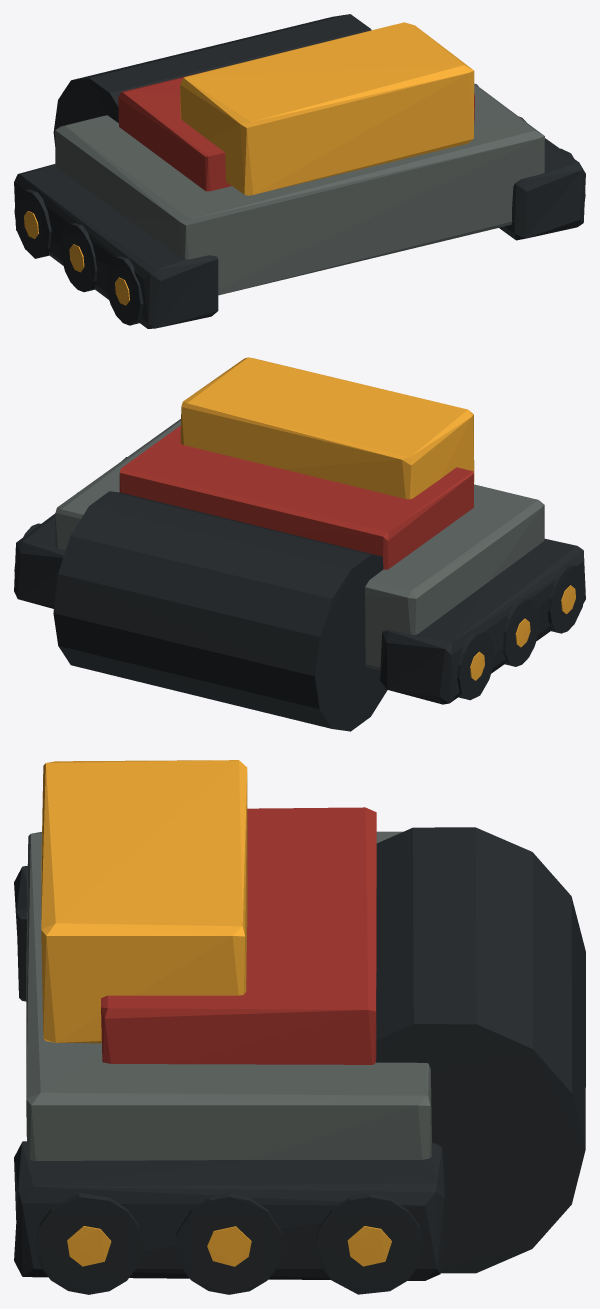
File: SM_Soviet_SU_BogatyrOreCarrier_LOD2.fbx
3 renders of one model, top to bottom at view 1: azimuth 30°, elevation 25°; view 2: azimuth 150°, elevation 25°; view 3: azimuth 270°, elevation 25°, orthographic. The views are drawn at different scales.
Parts seen in each view (by area): view 1: LOD02_SM_Soviet_SU_BogatyrOreCarrier; view 2: LOD02_SM_Soviet_SU_BogatyrOreCarrier; view 3: LOD02_SM_Soviet_SU_BogatyrOreCarrier.
Boxes of the visible parts, x1,y1,x2,y2 form: LOD02_SM_Soviet_SU_BogatyrOreCarrier: (14, 14, 585, 328); LOD02_SM_Soviet_SU_BogatyrOreCarrier: (14, 357, 585, 731); LOD02_SM_Soviet_SU_BogatyrOreCarrier: (14, 760, 585, 1294).
Bounding box in the file's own units: 572 × 411 × 264.
